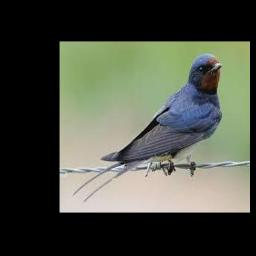Swallow: (72, 53, 223, 203)
